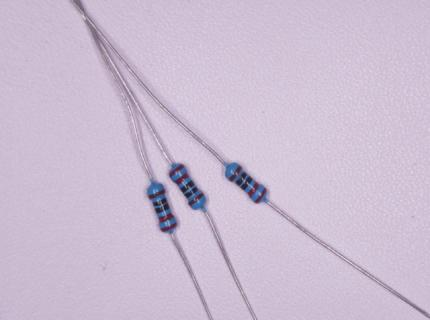Red band: (169, 164, 185, 178), (254, 187, 267, 204), (174, 172, 190, 185), (247, 182, 260, 198), (160, 222, 177, 232), (158, 212, 174, 222)
